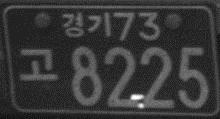2: (139, 45, 174, 109), (104, 46, 136, 108)
3: (138, 11, 160, 42)
5: (177, 46, 209, 111)
7: (113, 11, 135, 41)
8: (69, 45, 103, 106)
경기_O: (61, 12, 111, 38)
고: (18, 47, 57, 82)
